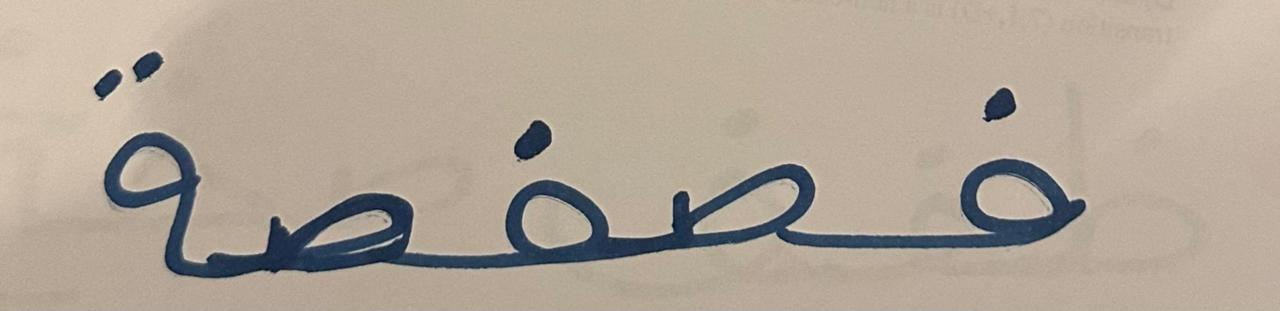feh: (844, 23, 1136, 289), (436, 16, 621, 290)
seen: (623, 62, 840, 289), (232, 68, 433, 290)
thal: (59, 29, 228, 294)
